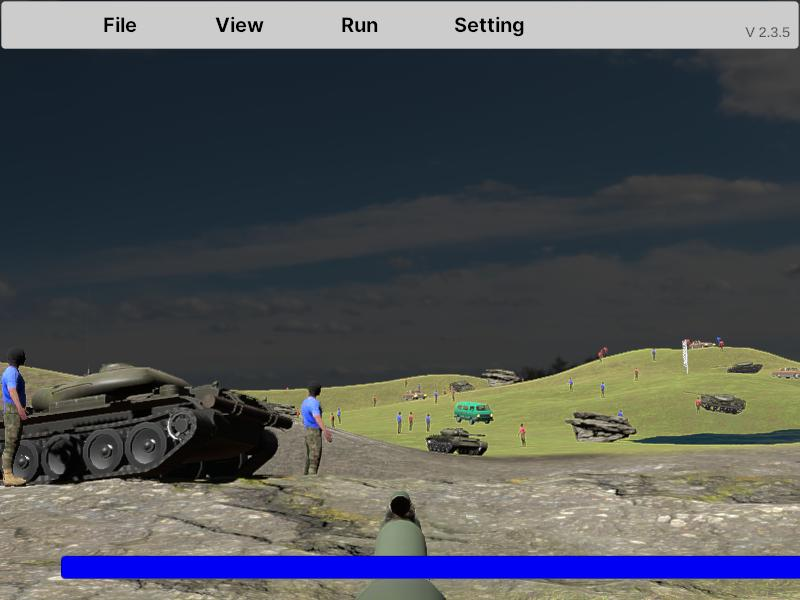Human: (0, 346, 30, 488), (301, 380, 332, 501)
Tank: (0, 364, 283, 487), (426, 427, 489, 458), (696, 392, 748, 414)
car: (454, 400, 494, 425), (771, 366, 800, 379)
